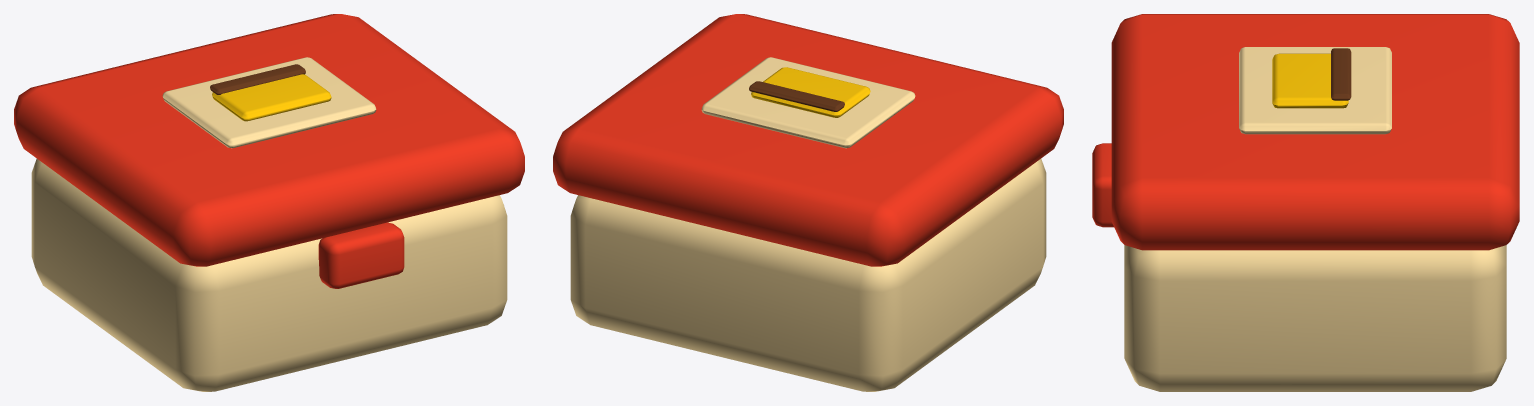
Rendered from 30_Burger_Box.glb.
3 views of the same model, side by side, from view 1: azimuth 30°, elevation 25°; view 2: azimuth 150°, elevation 25°; view 3: azimuth 270°, elevation 25° (orthographic). The views are drawn at different scales.
Visible parts, largest first — view 1: 30_Burger_Box_EXPORT; view 2: 30_Burger_Box_EXPORT; view 3: 30_Burger_Box_EXPORT.
Boxes of the visible parts, x1,y1,x2,y2 form: 30_Burger_Box_EXPORT: (14,14,524,391); 30_Burger_Box_EXPORT: (553,14,1063,391); 30_Burger_Box_EXPORT: (1092,14,1519,391).
Size of the model in its own units: 0.35 by 0.213 by 0.335.
